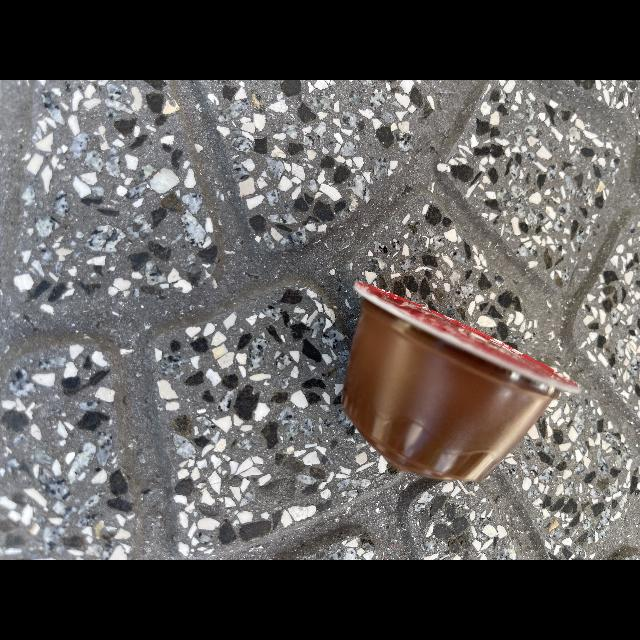intact_capsule: (319, 266, 595, 508)
